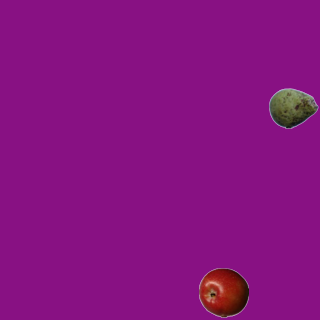Apple Braeburn: (198, 267, 248, 317)
Pear Stone: (268, 83, 318, 133)
